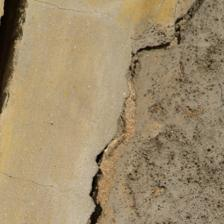Crack: (6, 100, 58, 218), (0, 26, 58, 95), (103, 99, 121, 224)
